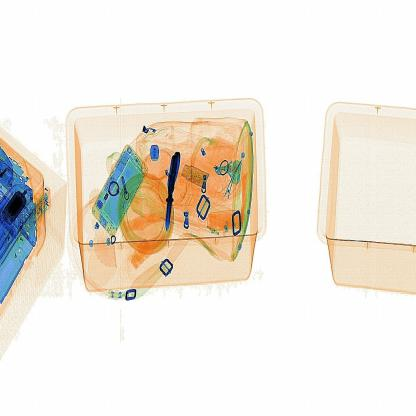gun: (156, 142, 188, 230)
